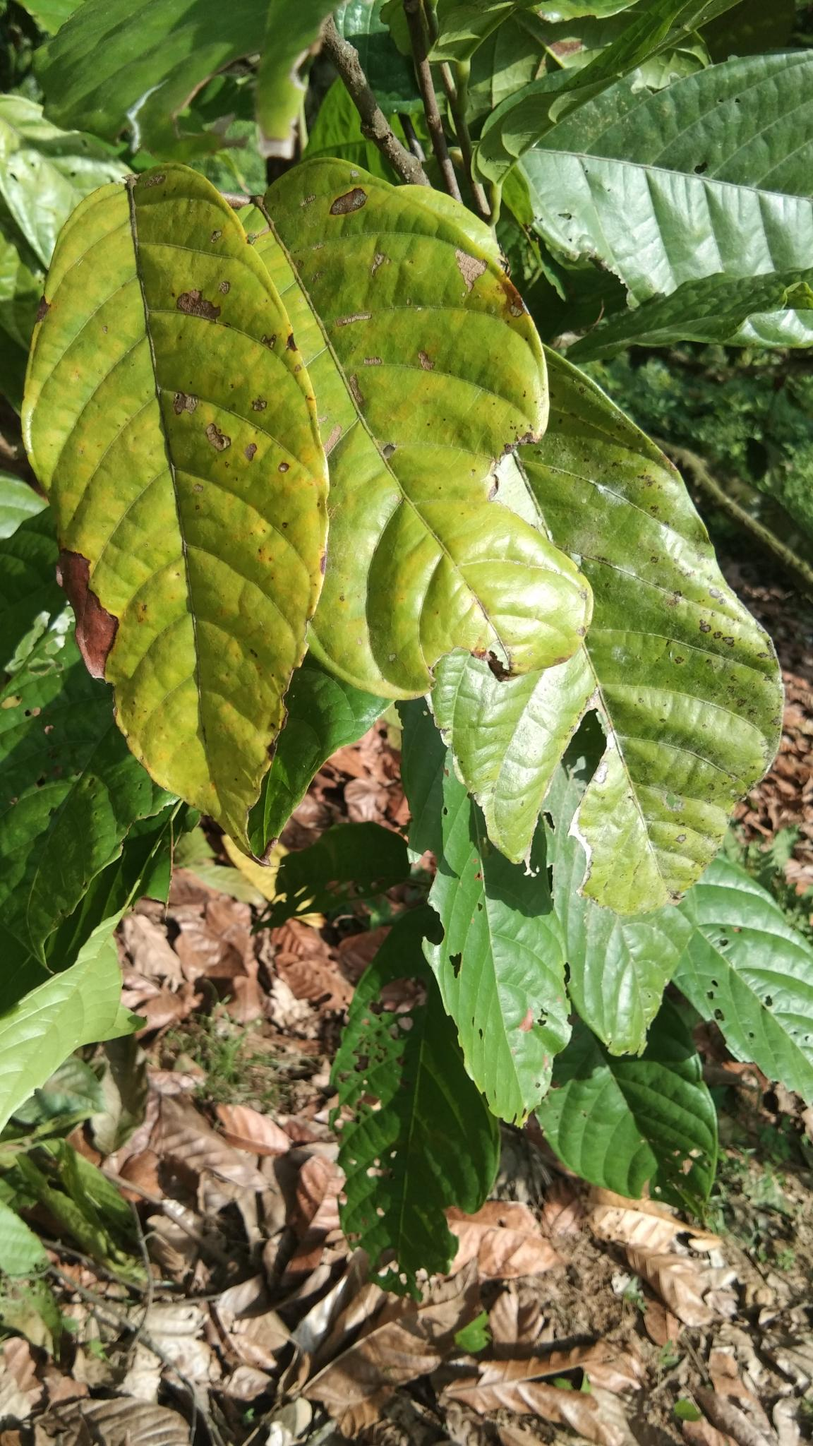Potasio: (19, 161, 334, 862)
